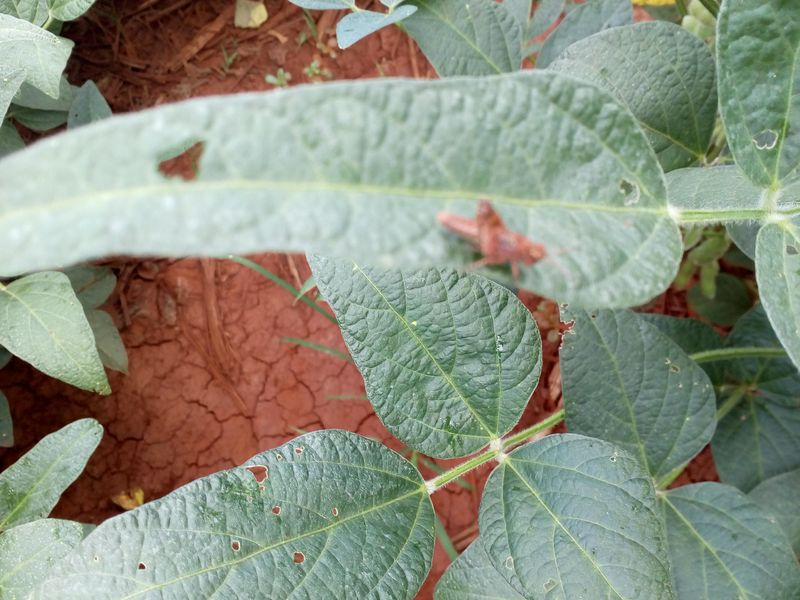Rhammatocerus_schistocercoides: (419, 189, 563, 303)
